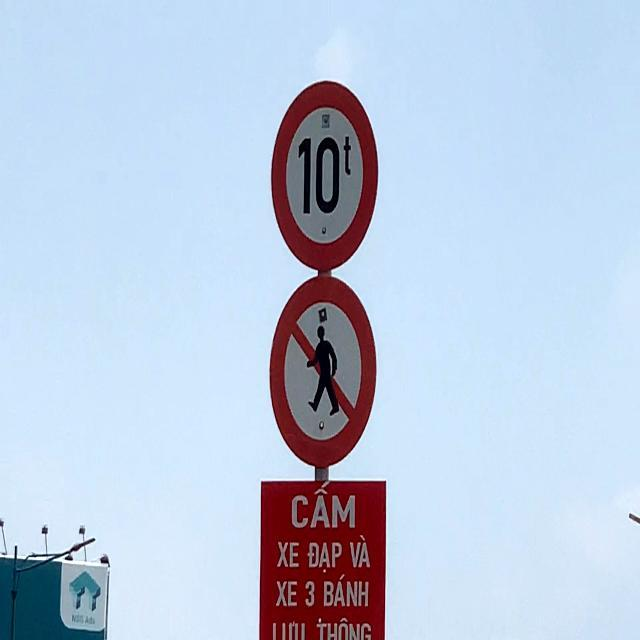P-112: (269, 273, 377, 468)
P-115: (270, 82, 378, 270)
